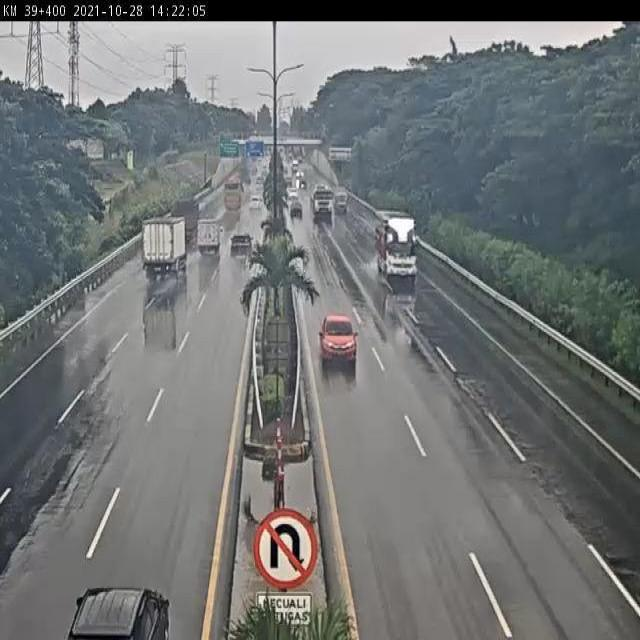car: (316, 311, 360, 364), (227, 230, 254, 262)
truck-l-: (375, 215, 420, 285)
truck-m-: (143, 215, 190, 276), (172, 199, 202, 240)
truck-s-: (197, 218, 222, 254)
